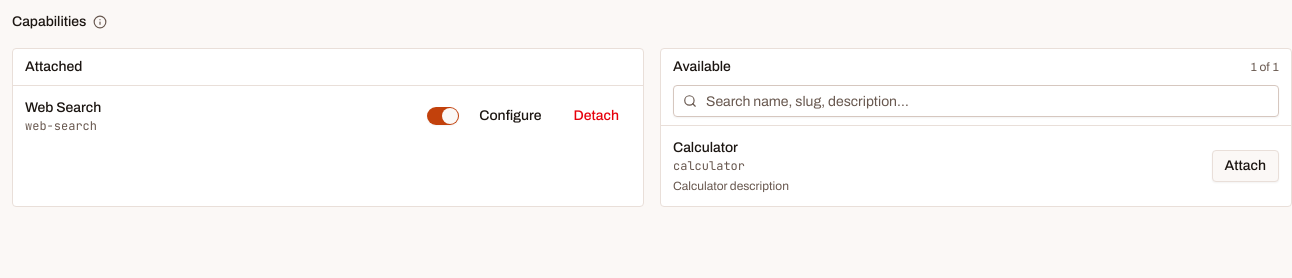
Scenario: AgentCapabilitiesTab › error and edge-case paths › renders inline error when Attach POST fails
This screenshot has width=1292, height=278.
Check: the text "Calculator" is shown, box [673, 140, 738, 155]
click Attach
Click the button "Attach" at (1245,166), box [1212, 150, 1279, 182]
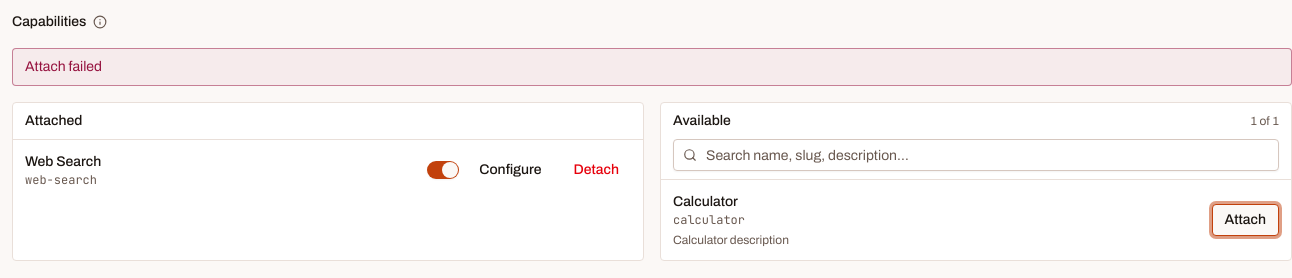
Check: the text "Attach failed" is shown, box [12, 48, 1291, 86]
